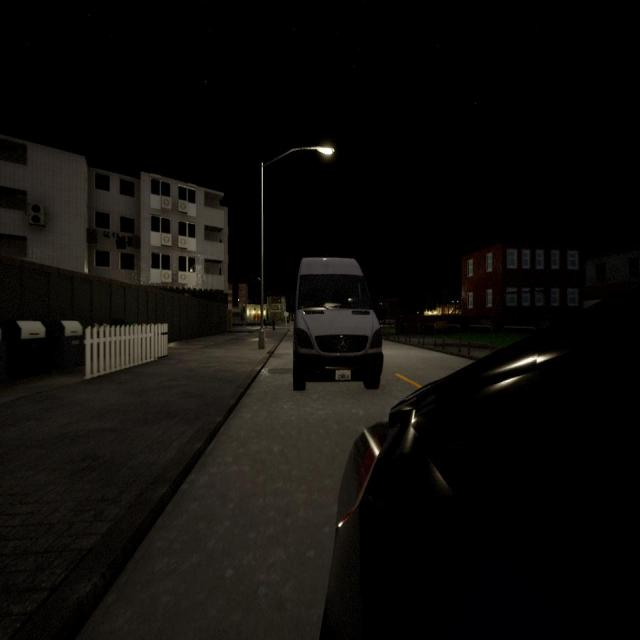Pedestrian: (271, 317, 276, 331)
Traffic_Signs: (283, 311, 289, 317)
Vehicle: (323, 282, 640, 640), (293, 256, 383, 394)
